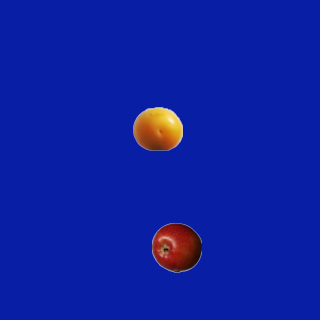Apple Braeburn: (151, 222, 201, 272)
Cherry Wax Yellow: (132, 103, 182, 153)
